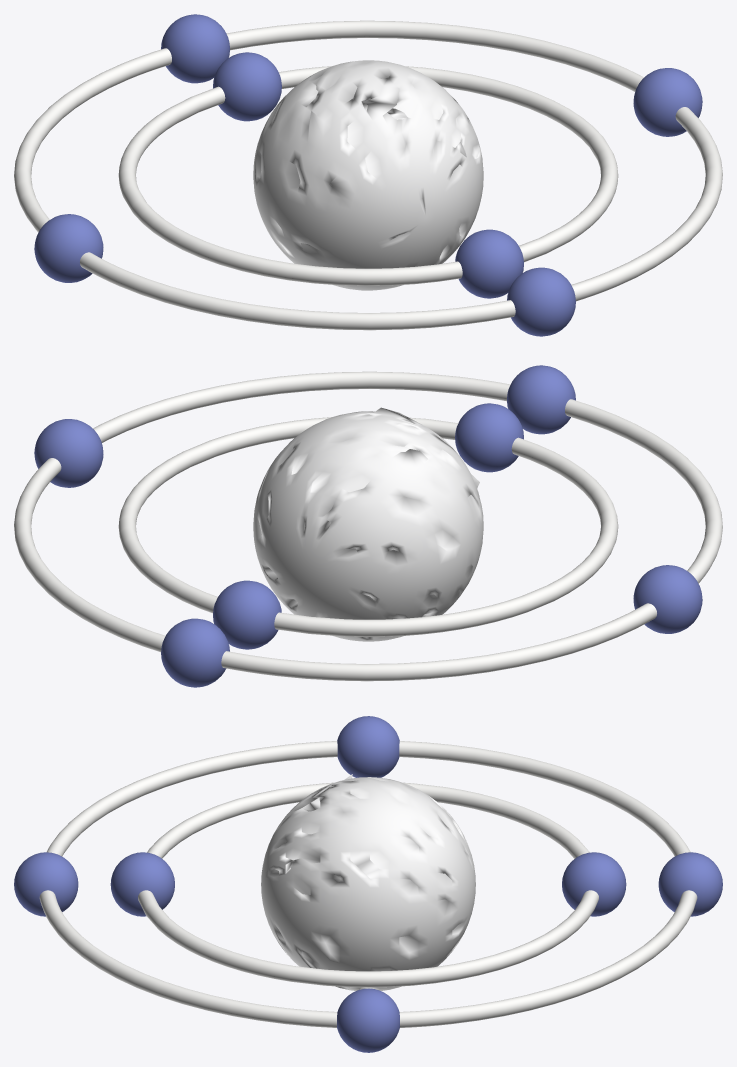
File: asset.glb
The picture shows the model from 3 angles, top to bottom: view 1: azimuth 30°, elevation 25°; view 2: azimuth 150°, elevation 25°; view 3: azimuth 270°, elevation 25°; orthographic projection. The views are drawn at different scales.
Parts seen in each view (by area): view 1: Body3, Body1, Body2; view 2: Body3, Body1, Body2; view 3: Body3, Body1, Body2.
Boxes of the visible parts, x1,y1,x2,y2 form: Body3: [253, 60, 483, 290]; Body1: [14, 14, 722, 336]; Body2: [118, 52, 618, 298]; Body3: [253, 407, 483, 641]; Body1: [14, 365, 722, 687]; Body2: [118, 403, 618, 649]; Body3: [261, 774, 475, 990]; Body1: [14, 716, 722, 1052]; Body2: [110, 782, 626, 987].
Size of the model in its own units: 0.66 by 0.2 by 0.66.
